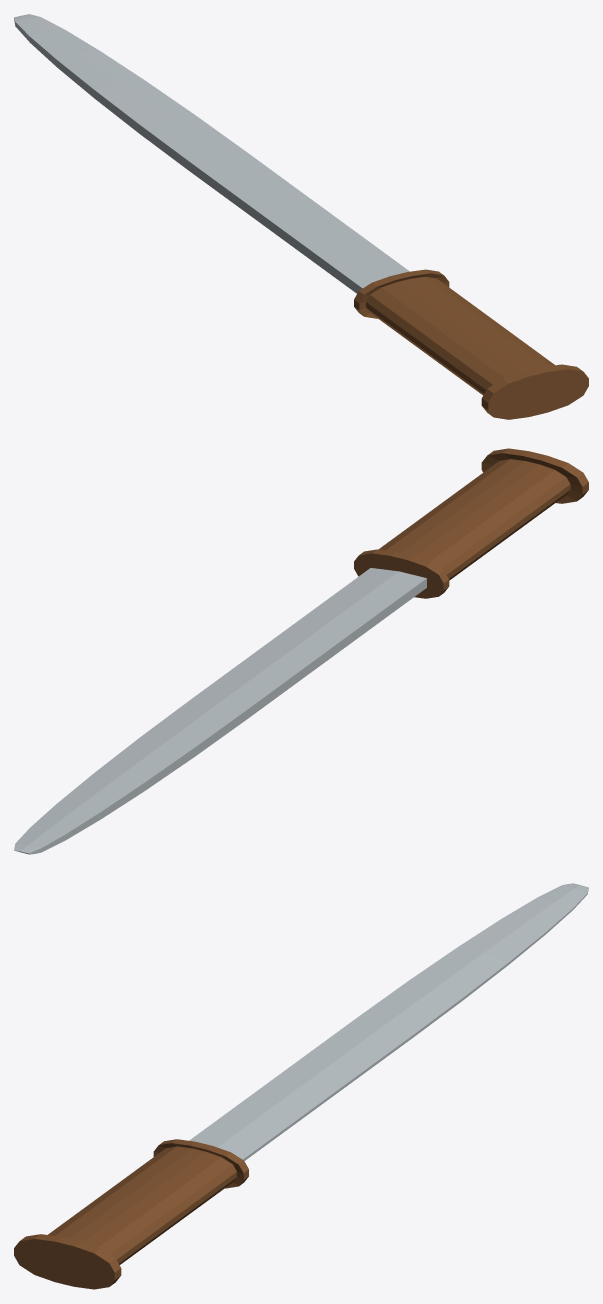
Rendered from knifekebab.fbx.
The picture shows the model from 3 angles, top to bottom: view 1: azimuth 30°, elevation 25°; view 2: azimuth 150°, elevation 25°; view 3: azimuth 330°, elevation 25°; orthographic projection.
Parts seen in each view (by area): view 1: Cube; view 2: Cube; view 3: Cube.
Boxes of the visible parts, bbox=[...] form: Cube: bbox=[14, 14, 588, 419]; Cube: bbox=[14, 448, 588, 854]; Cube: bbox=[14, 883, 588, 1289].
Size of the model in its own units: 96.22 by 37.01 by 855.
